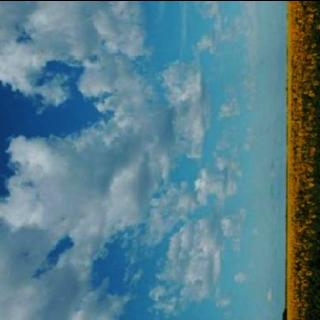Altocumulus: (1, 0, 284, 320)
